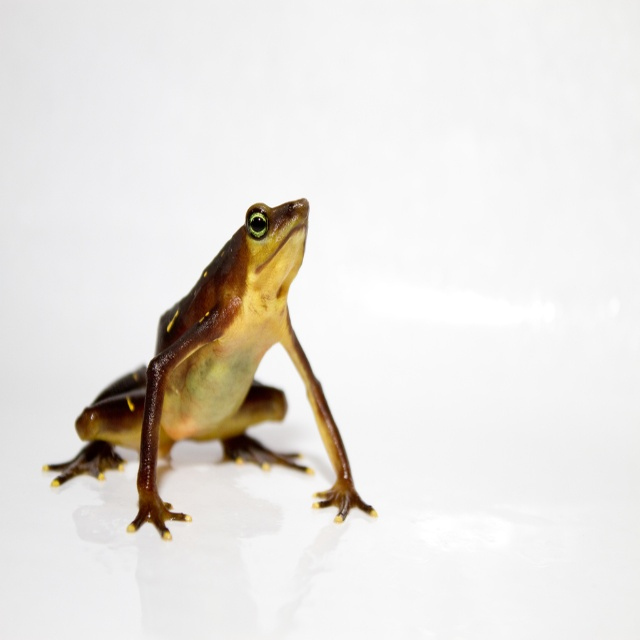Frog: (42, 199, 376, 543)
